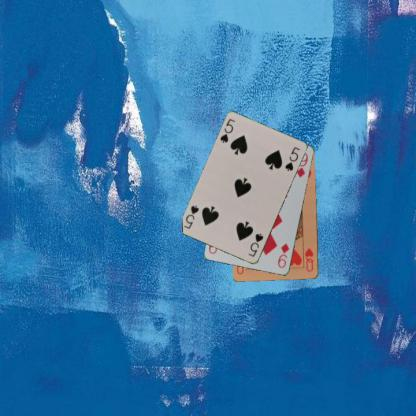5s: (218, 116, 236, 145), (246, 231, 264, 258)
9d: (275, 241, 291, 269)
Qh: (302, 246, 316, 273)
